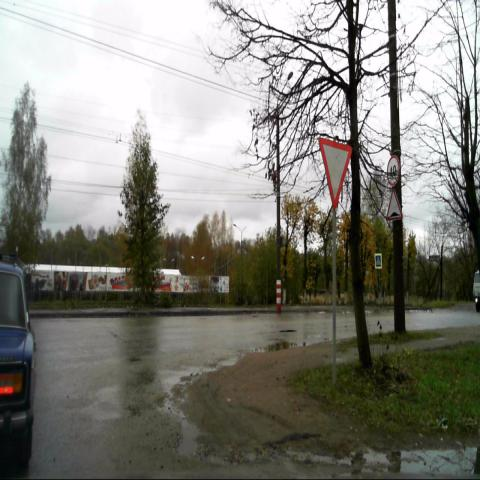1_17: (385, 188, 403, 222)
2_4: (318, 137, 352, 211)
3_24: (386, 155, 400, 187)
5_19_1: (375, 252, 383, 269)
